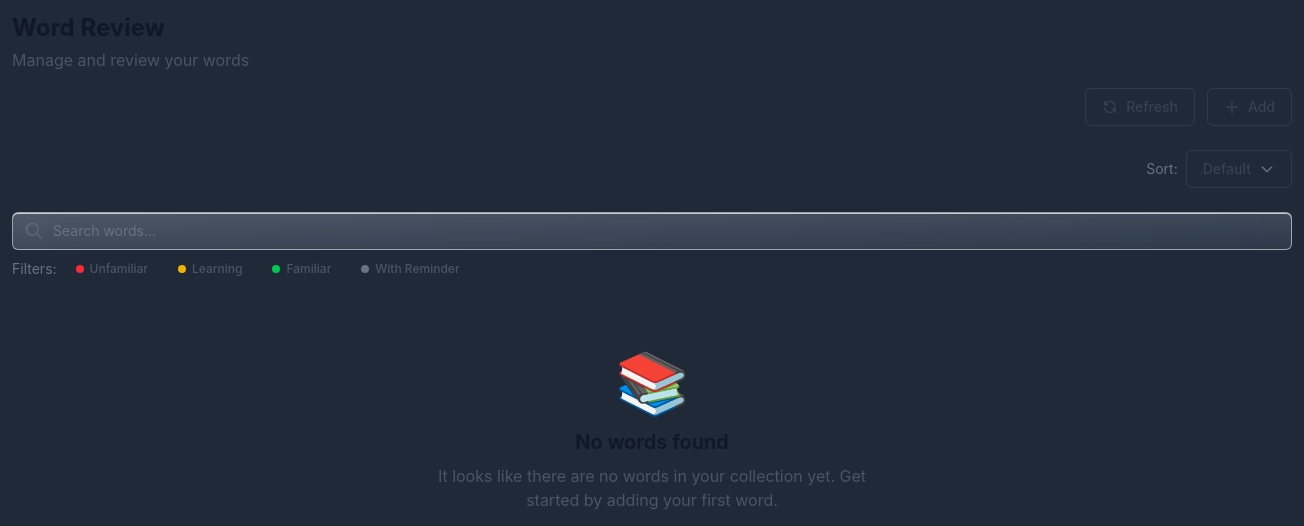
Test: WordsReviewTab › updates the sort selection and refetches page 1 when the sort changes
The width and height of the screenshot is (1304, 526).
Step 1. Click the button "Default" → [1239, 169], box 1186,150 -> 1292,188
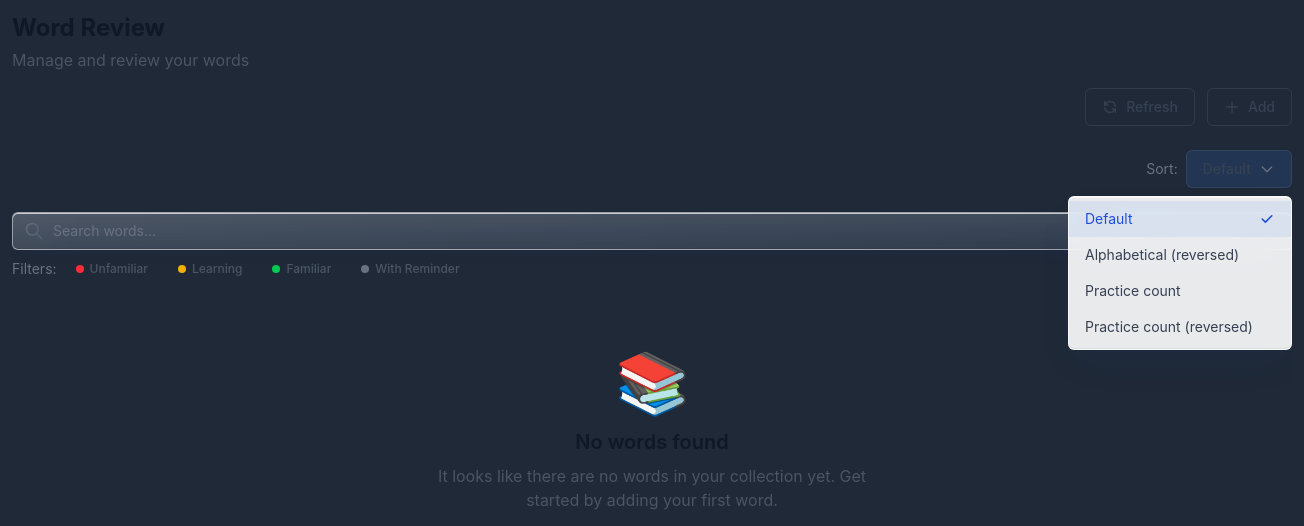
Step 2. Click the menu item "Practice count" → [1180, 291], box 1069,273 -> 1291,309
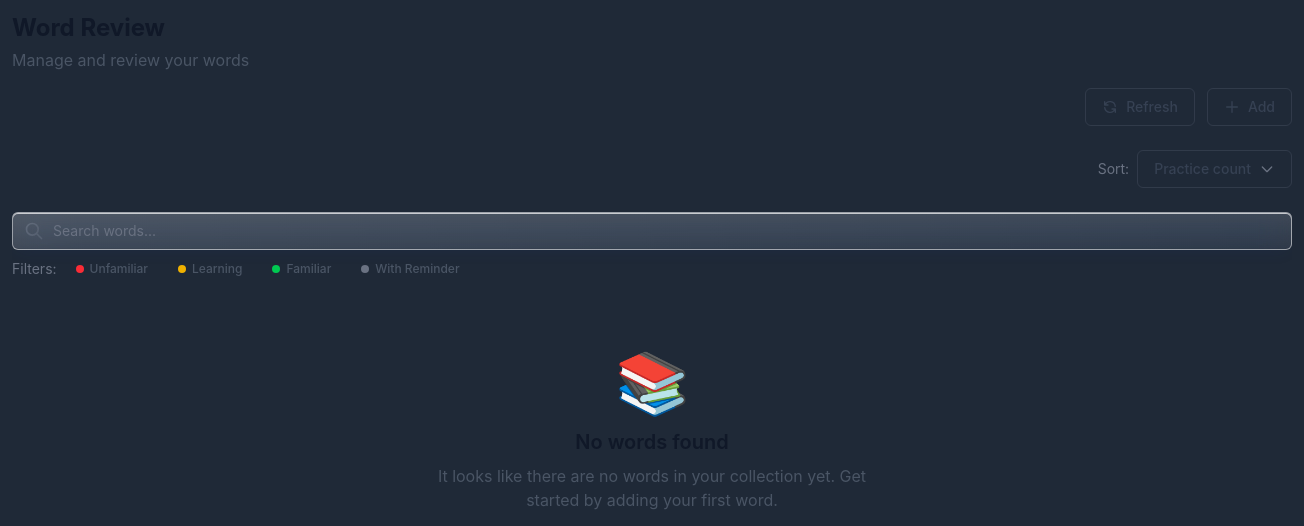
Expected: the button "Practice count" is shown, 1137,150 -> 1292,188
